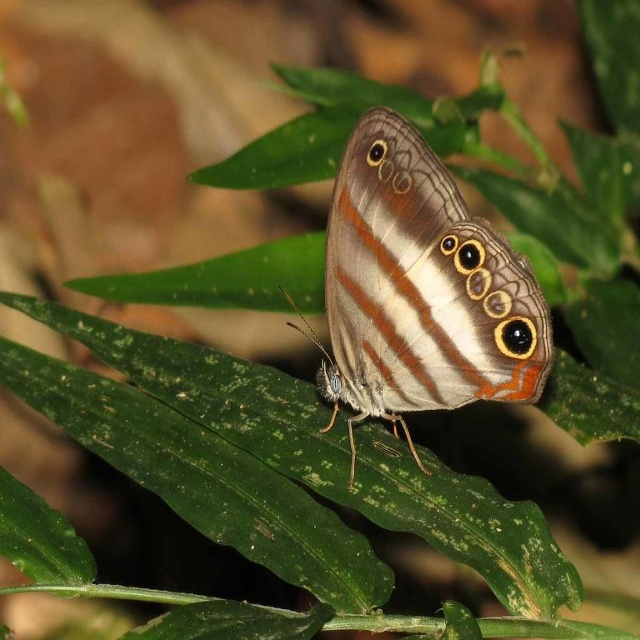Butterfly: (278, 111, 548, 469)
